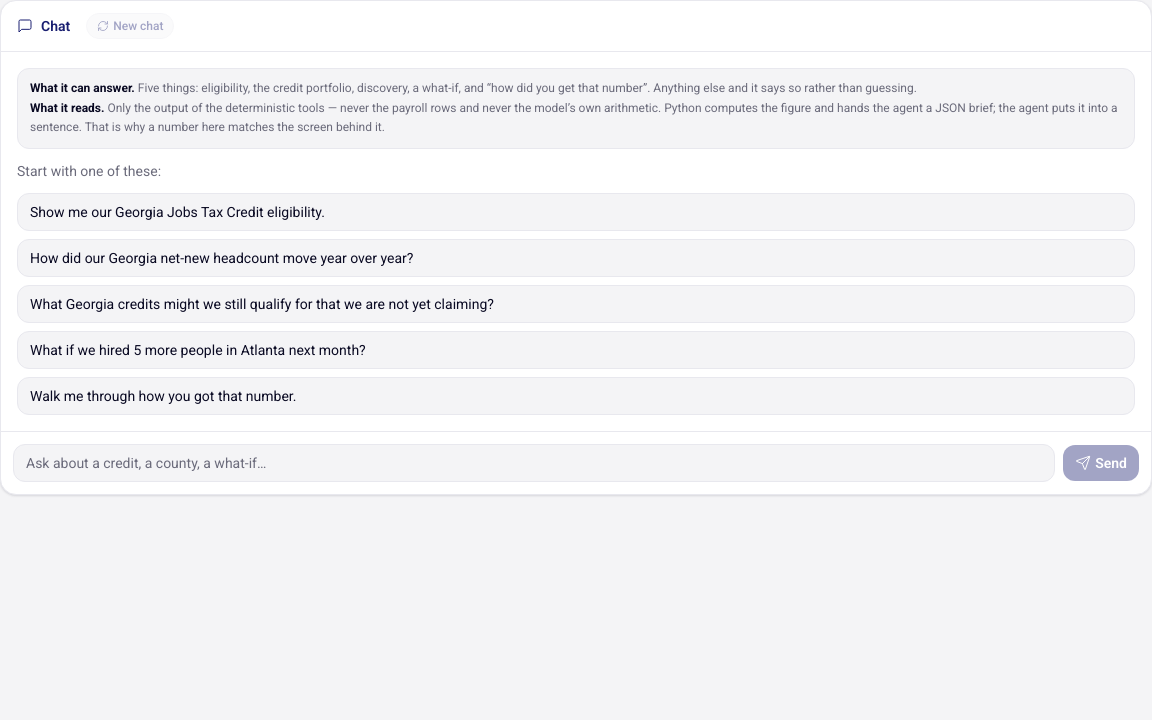
when the client is unclear, the chat asks — it never picks › a question can only be answered once
In the field: (534, 462) [13,444,1055,482], type "what is their trend?"
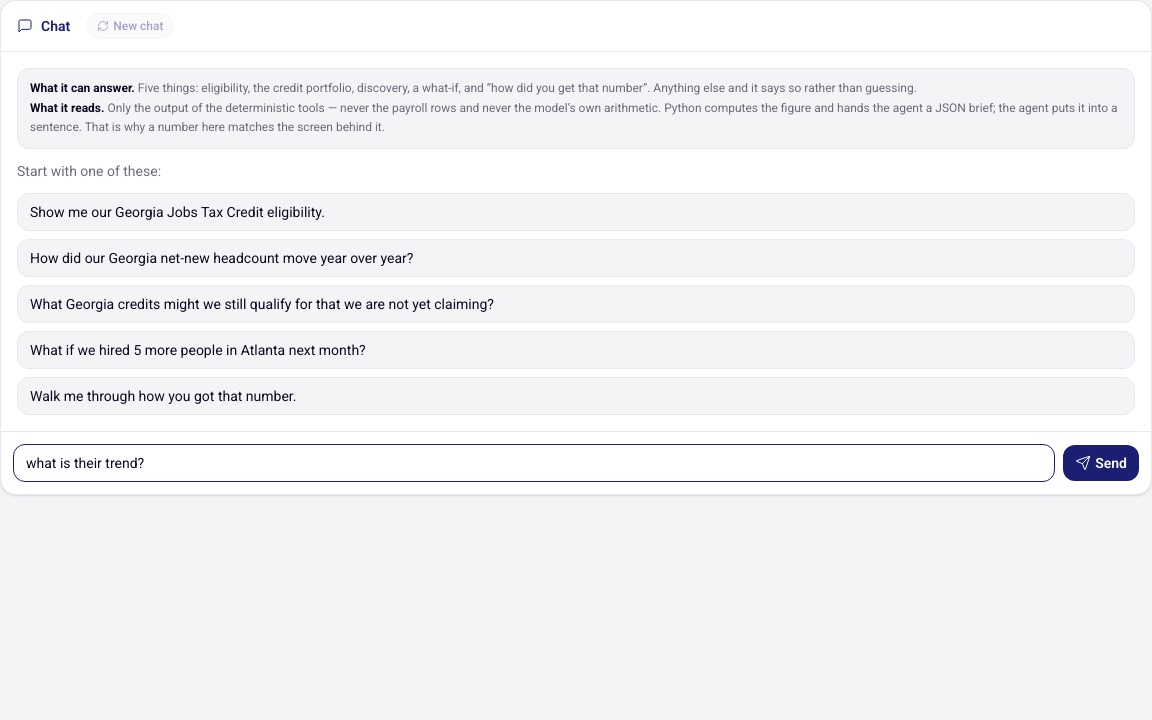
Click the button "Send": (1101, 462) [1063,444,1139,480]
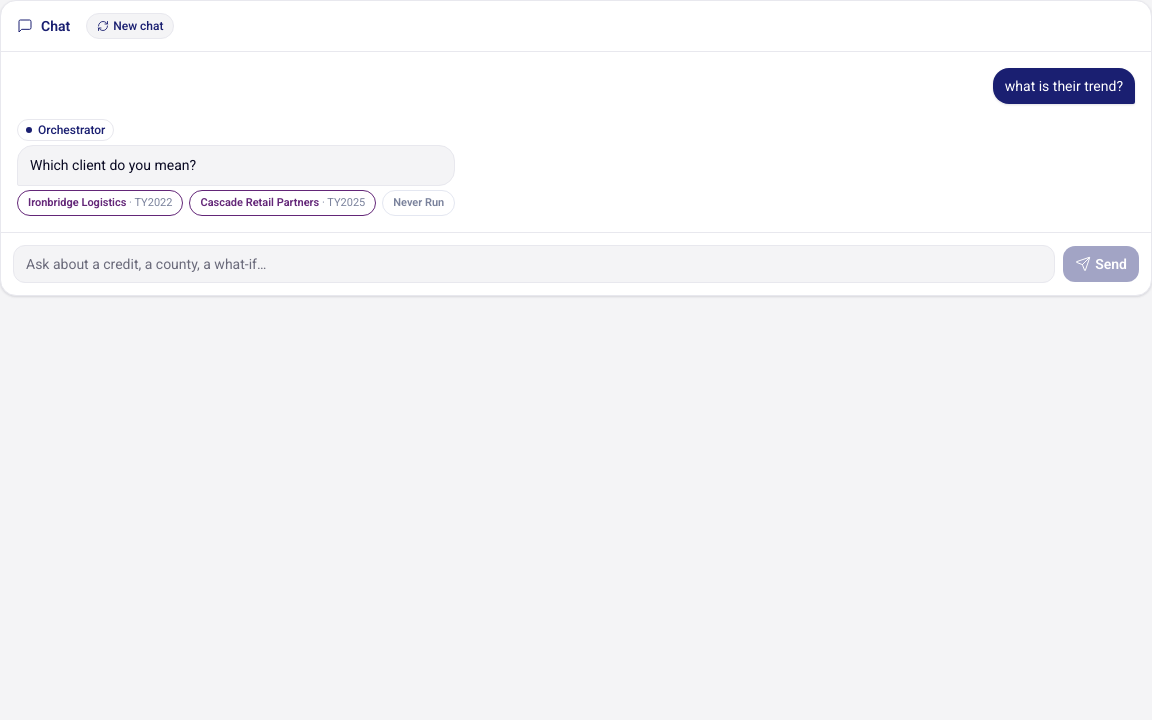
Click the button "Cascade Retail Partners · TY2025": (283, 203) [190,190,376,216]
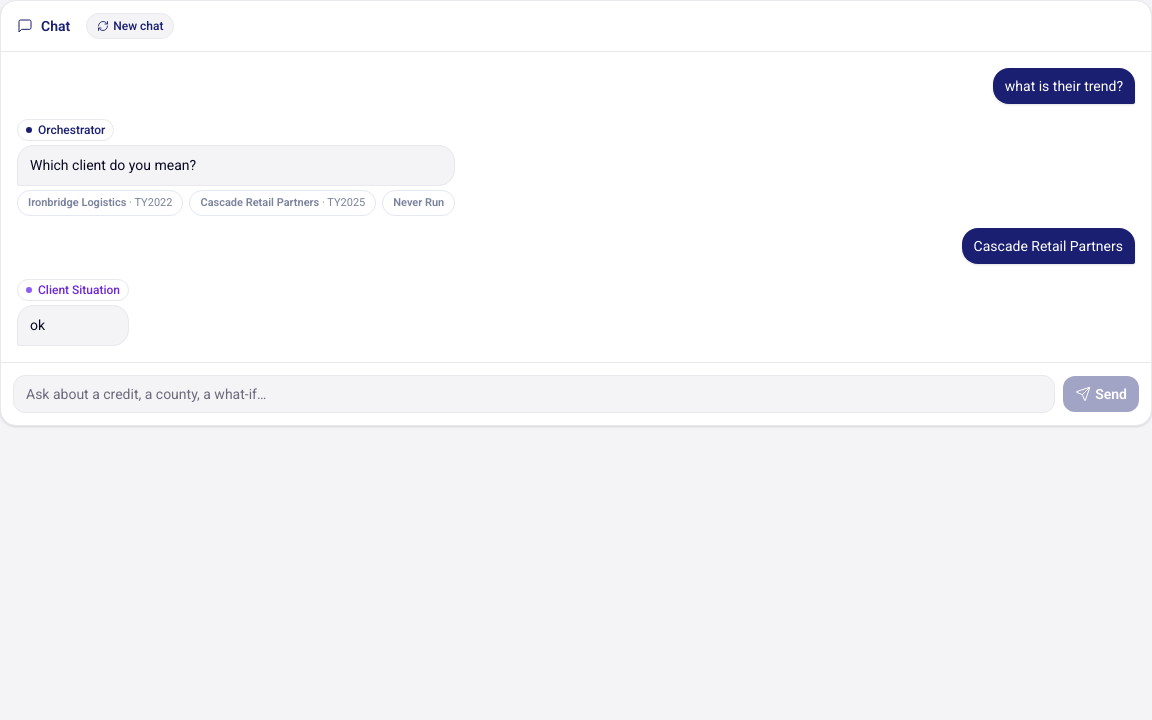
Check: the button "Ironbridge Logistics · TY2022" is disabled, box [17,190,184,216]
